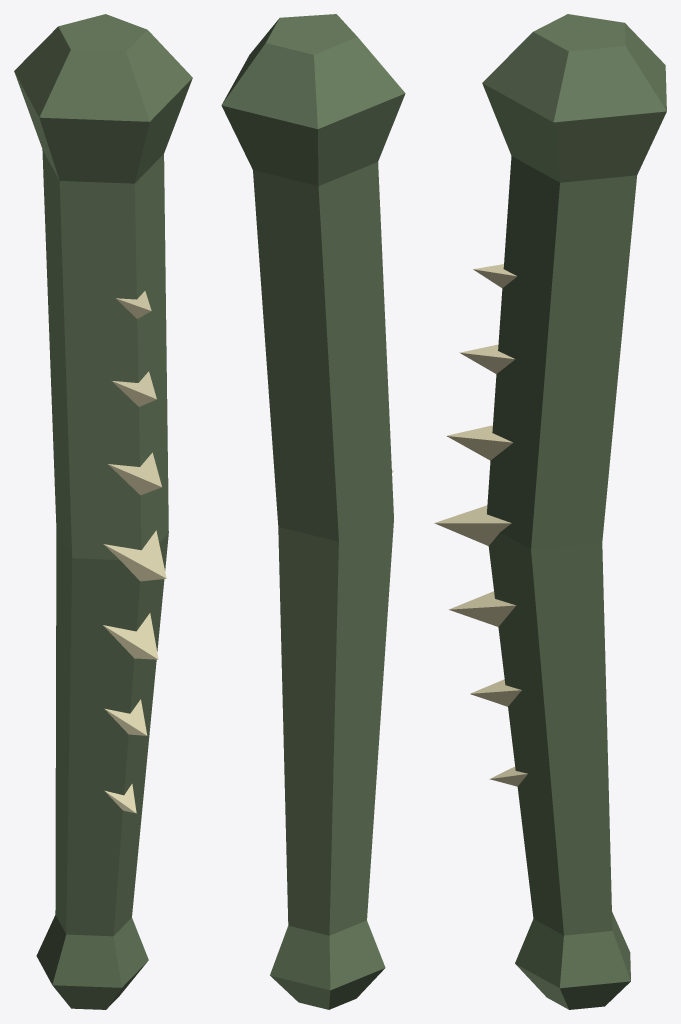
The model's file is LarvaeLegUpperRF.fbx.
The picture shows the model from 3 angles, left to right: view 1: azimuth 30°, elevation 25°; view 2: azimuth 150°, elevation 25°; view 3: azimuth 270°, elevation 25°; orthographic projection.
Parts seen in each view (by area): view 1: Arm13; view 2: Arm13; view 3: Arm13.
Part boxes in pixels (x1,y1,x2,y2): Arm13: (14,14,192,1009); Arm13: (221,14,405,1009); Arm13: (434,14,666,1009).
Size of the model in its own units: 1.2 by 7.13 by 1.55.
